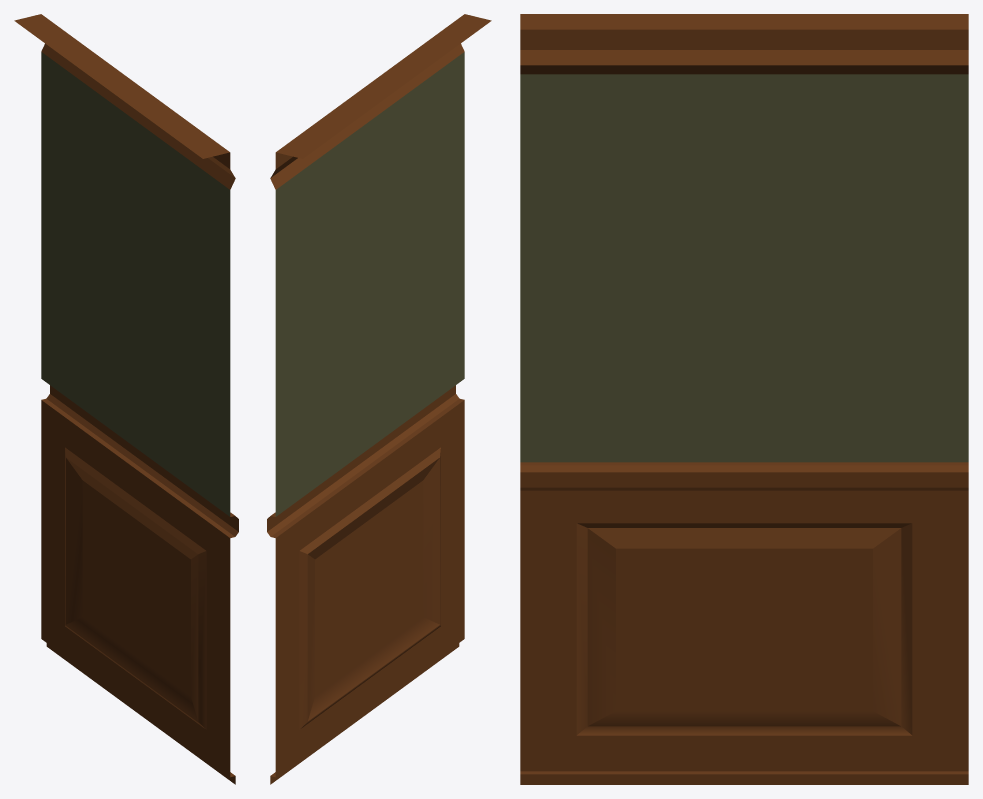
Rendered from g_t_StripedWall.fbx.
3 views of the same model, side by side, from view 1: azimuth 30°, elevation 25°; view 2: azimuth 150°, elevation 25°; view 3: azimuth 270°, elevation 25° (orthographic). The views are drawn at different scales.
Visible parts, largest first — view 1: g_t_TiledWall1; view 2: g_t_TiledWall1; view 3: g_t_TiledWall1.
Part boxes in pixels (bbox=[...]): g_t_TiledWall1: bbox=[14, 14, 238, 784]; g_t_TiledWall1: bbox=[267, 14, 491, 784]; g_t_TiledWall1: bbox=[520, 14, 968, 784].
Bounding box in the file's own units: 10.97 × 185 × 100.
